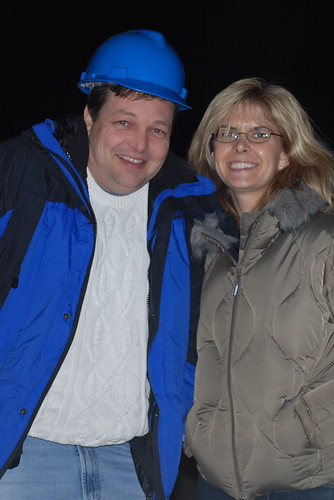person hardhat: (4, 21, 190, 493)
